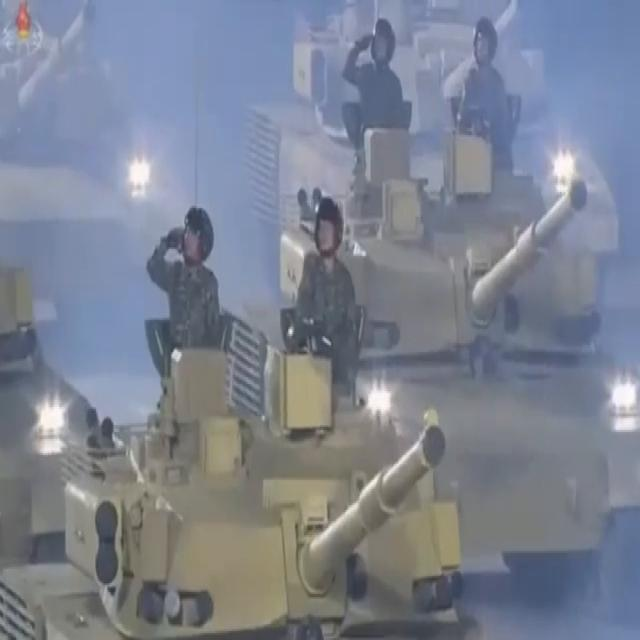north tank: (280, 109, 636, 640), (4, 306, 543, 640)
